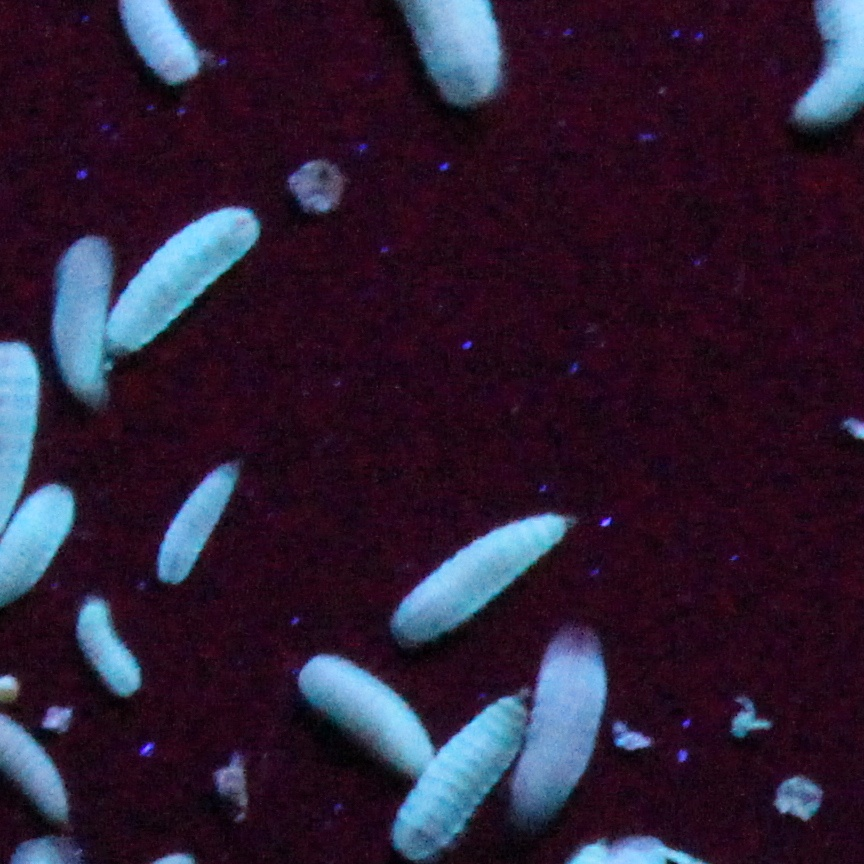larve: (384, 516, 578, 642), (98, 216, 264, 362), (395, 698, 530, 853), (293, 653, 435, 773), (538, 630, 610, 830), (158, 462, 231, 596), (58, 232, 111, 403), (78, 601, 140, 694)
